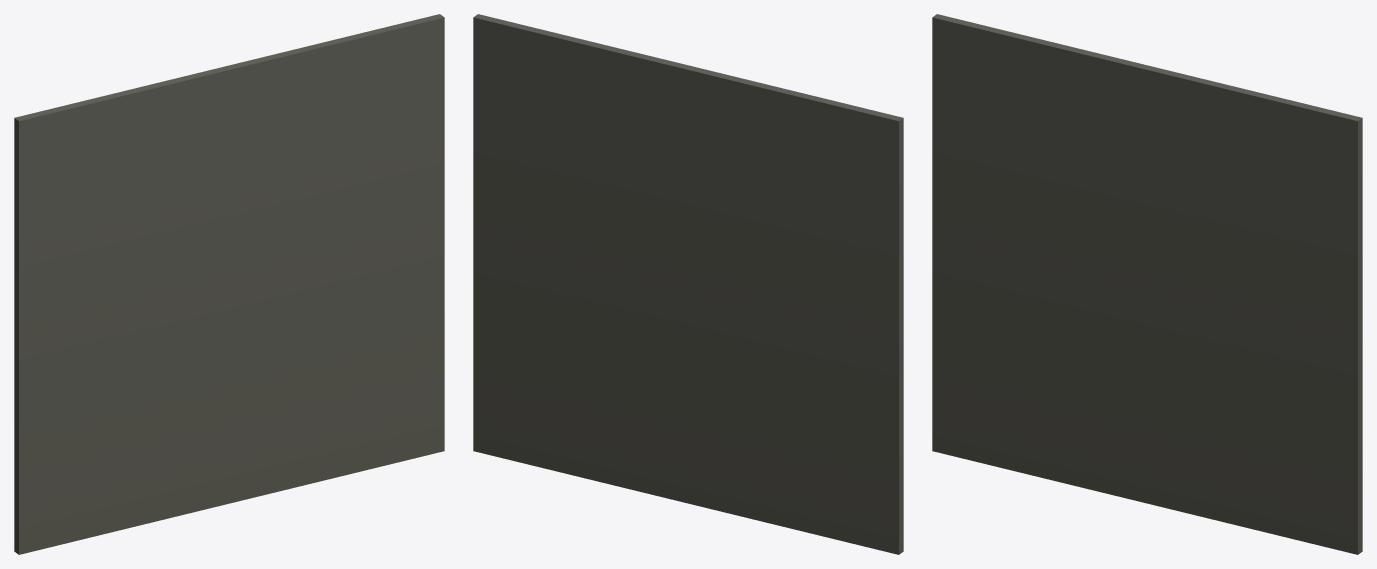
The model's file is AutoService_01_2.fbx.
3 views of the same model, side by side, from view 1: azimuth 30°, elevation 25°; view 2: azimuth 150°, elevation 25°; view 3: azimuth 330°, elevation 25° (orthographic).
Parts seen in each view (by area): view 1: AutoService_02; view 2: AutoService_02; view 3: AutoService_02.
Part boxes in pixels (box(x1,y1,x2,y2)): AutoService_02: box(14, 14, 444, 554); AutoService_02: box(473, 14, 903, 554); AutoService_02: box(932, 14, 1362, 554).
Size of the model in its own units: 2.6 by 2.53 by 0.05.
